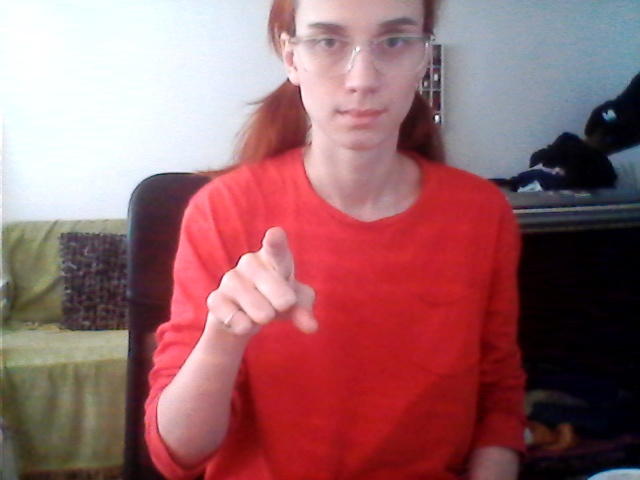ty: (197, 219, 332, 357)
